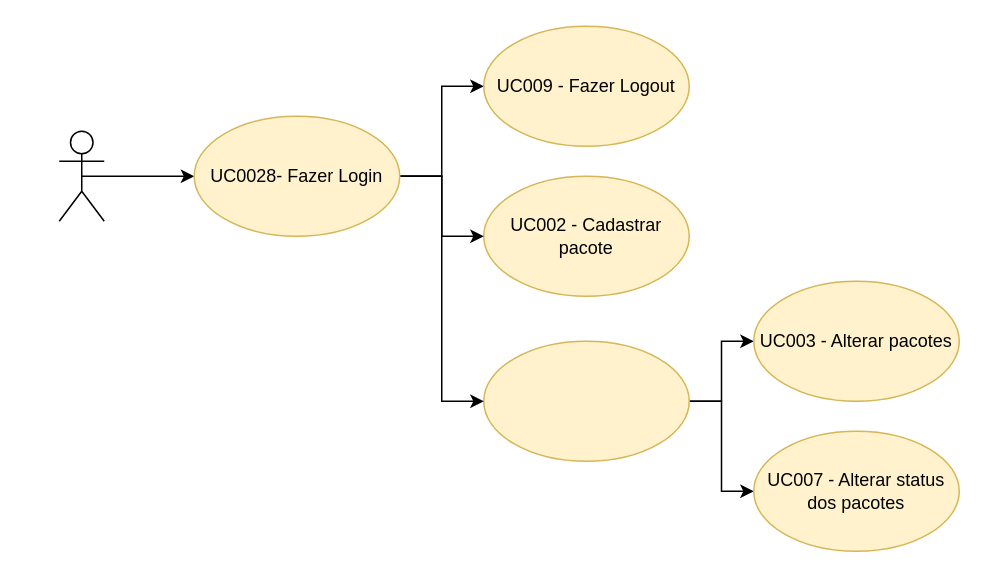
The diagram is 986 pixels wide and 578 high, and some of its shapes have lost their labels. Here are the shapes that lost their labels. From the top down, the centre of each, then its label:
pixel 81 175: Administrador
pixel 585 400: UC001 - Visualizar pacotes
